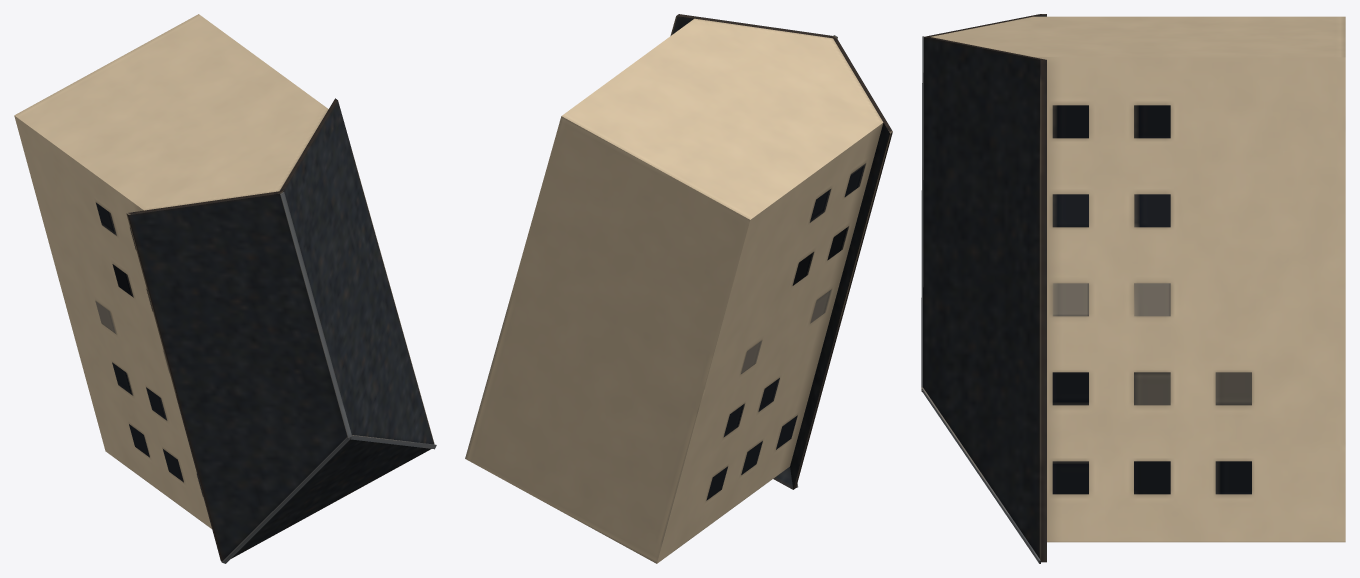
Rendered from house_b0192.obj.
The picture shows the model from 3 angles, left to right: view 1: azimuth 30°, elevation 25°; view 2: azimuth 150°, elevation 25°; view 3: azimuth 270°, elevation 25°; orthographic projection. The views are drawn at different scales.
Parts seen in each view (by area): view 1: house_b0192; view 2: house_b0192; view 3: house_b0192.
Boxes of the visible parts, x1,y1,x2,y2 form: house_b0192: (14,14,436,563); house_b0192: (465,14,892,563); house_b0192: (921,14,1345,563).
Size of the model in its own units: 15.69 by 21.26 by 15.61.
1 material, 1 textured.
